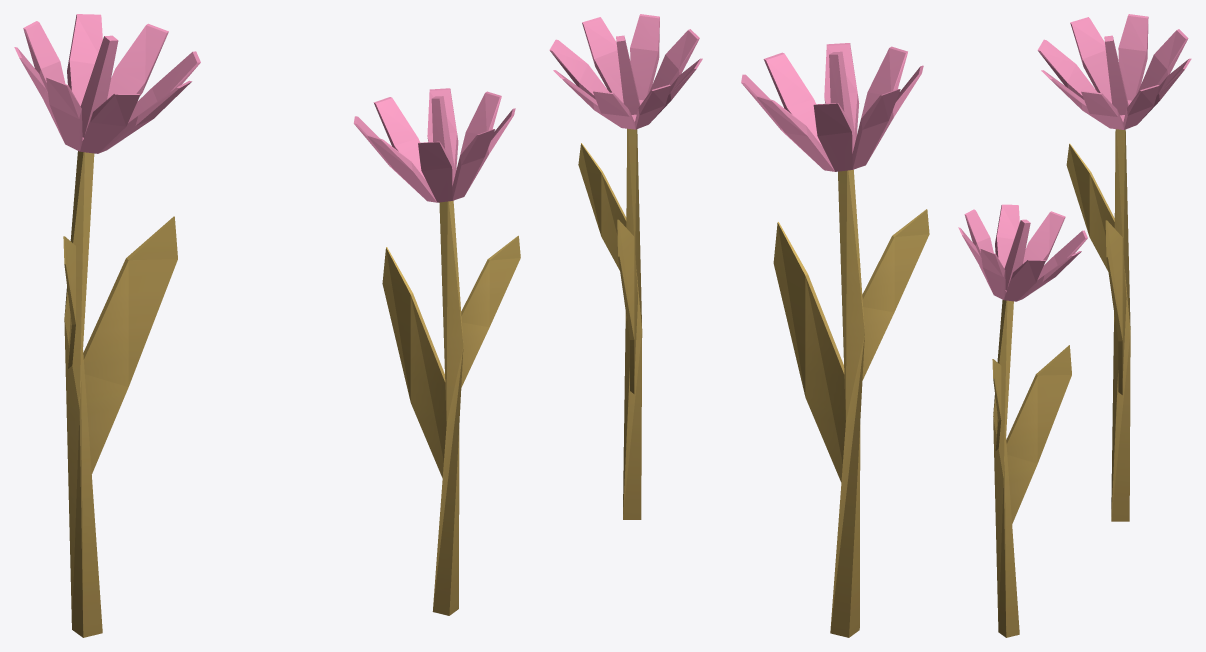
File: flower_tulip.glb
The picture shows the model from 3 angles, left to right: view 1: azimuth 30°, elevation 25°; view 2: azimuth 150°, elevation 25°; view 3: azimuth 270°, elevation 25°; orthographic projection. The views are drawn at different scales.
Visible parts, largest first — view 1: Flower 3_1_A; view 2: Flower 3_1_A; view 3: Flower 3_1_A.
Boxes of the visible parts, x1,y1,x2,y2 form: Flower 3_1_A: (14, 14, 520, 637); Flower 3_1_A: (549, 14, 929, 637); Flower 3_1_A: (958, 14, 1191, 637).
Bounding box in the file's own units: 0.2813 × 0.38 × 0.1652.
Materials: 1 (1 with a texture image).
